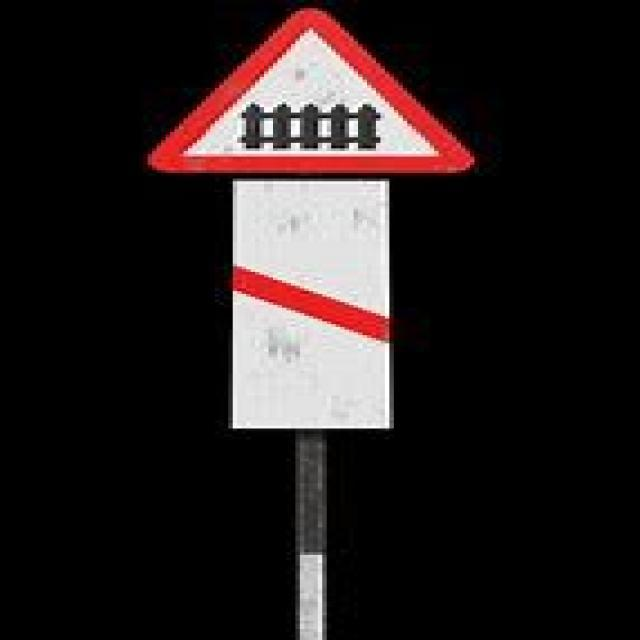guarded level crossing: (152, 6, 487, 182)
